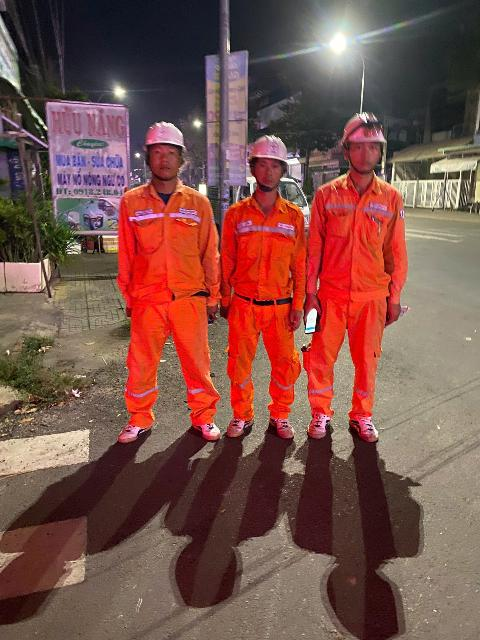helmet: (238, 123, 303, 172), (336, 110, 408, 150), (137, 116, 193, 155)
shoes: (344, 403, 385, 448), (113, 412, 156, 448), (306, 402, 337, 445), (185, 412, 221, 444), (267, 410, 299, 444), (225, 410, 258, 440)
